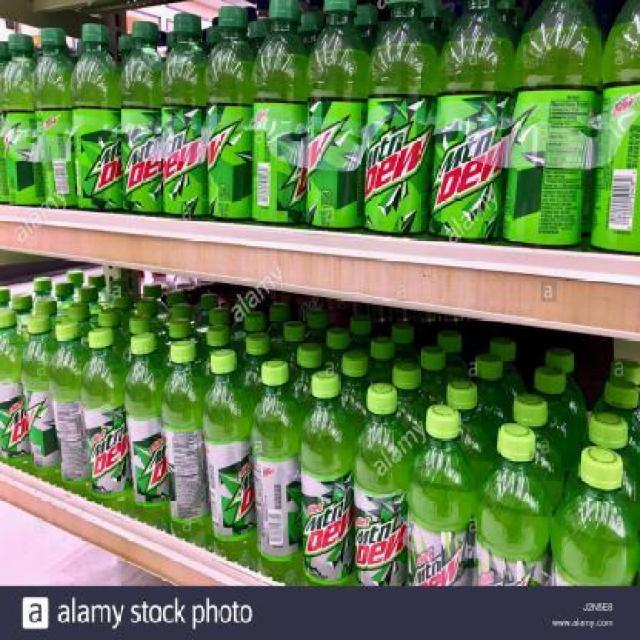Drinks: (502, 0, 604, 249), (439, 1, 516, 244), (364, 0, 437, 235), (306, 0, 370, 231), (409, 403, 477, 586), (301, 369, 357, 587), (253, 0, 307, 226), (357, 382, 413, 586), (251, 358, 302, 576), (202, 348, 253, 564), (207, 5, 256, 223), (69, 23, 120, 212), (161, 12, 207, 220), (161, 339, 209, 525), (119, 19, 163, 216), (79, 327, 130, 496), (124, 332, 172, 509), (33, 28, 76, 210), (49, 320, 91, 486), (1, 35, 41, 206), (21, 313, 59, 482), (0, 312, 31, 461)
